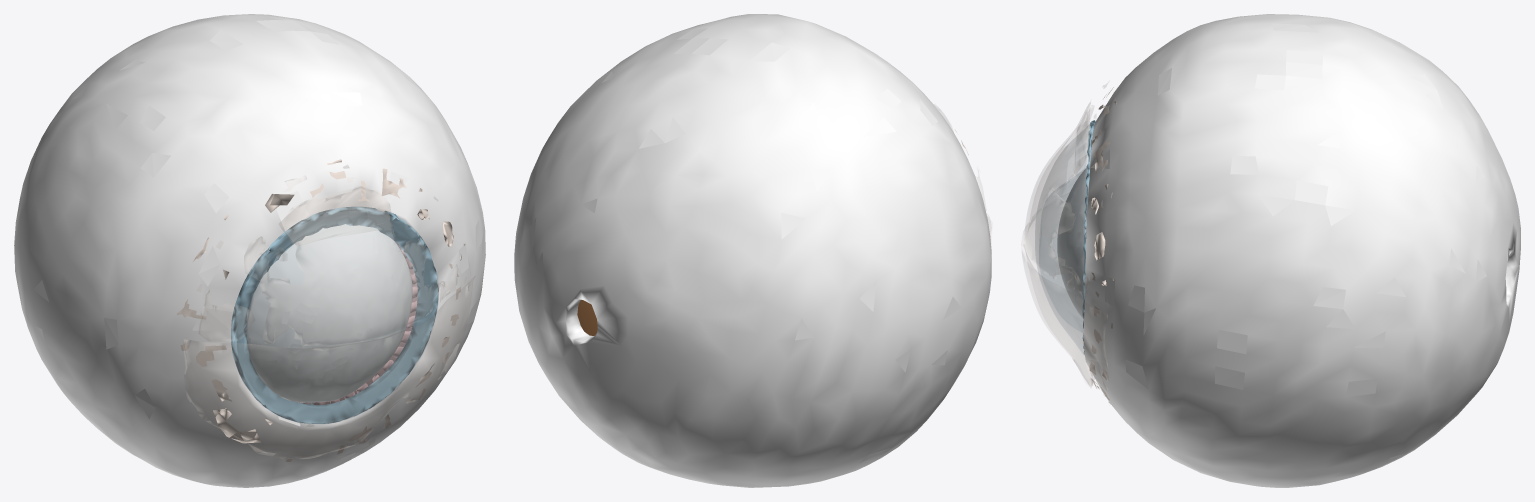
The model's file is 3d-vh-m-eye-r-40.glb.
3 renders of one model, left to right at view 1: azimuth 30°, elevation 25°; view 2: azimuth 150°, elevation 25°; view 3: azimuth 270°, elevation 25°, orthographic.
Visible parts, largest first — view 1: VH_M_sclera_R, VH_M_cornea_R, VH_M_palpebral_conjunctiva_of_lower_eyelid_R, VH_M_aqueous_humor_R, VH_M_palpebral_conjunctiva_of_upper_eyelid_R, VH_M_corneo_scleral_junction_R, VH_M_bulbar_conjunctiva_R, VH_M_ciliary_muscle_R; view 2: VH_M_sclera_R, VH_M_optic_choroid_R; view 3: VH_M_sclera_R, VH_M_cornea_R, VH_M_palpebral_conjunctiva_of_upper_eyelid_R, VH_M_palpebral_conjunctiva_of_lower_eyelid_R, VH_M_aqueous_humor_R, VH_M_bulbar_conjunctiva_R, VH_M_corneo_scleral_junction_R.
Boxes of the visible parts, x1,y1,x2,y2 form: VH_M_sclera_R: [14, 14, 485, 487]; VH_M_cornea_R: [233, 209, 438, 423]; VH_M_palpebral_conjunctiva_of_lower_eyelid_R: [183, 276, 474, 458]; VH_M_aqueous_humor_R: [246, 224, 412, 402]; VH_M_palpebral_conjunctiva_of_upper_eyelid_R: [197, 165, 470, 345]; VH_M_corneo_scleral_junction_R: [231, 206, 438, 423]; VH_M_bulbar_conjunctiva_R: [177, 159, 469, 461]; VH_M_ciliary_muscle_R: [295, 242, 417, 404]; VH_M_sclera_R: [514, 14, 991, 487]; VH_M_optic_choroid_R: [577, 299, 597, 335]; VH_M_sclera_R: [1083, 14, 1520, 487]; VH_M_cornea_R: [1035, 122, 1092, 355]; VH_M_palpebral_conjunctiva_of_upper_eyelid_R: [1025, 82, 1108, 311]; VH_M_palpebral_conjunctiva_of_lower_eyelid_R: [1021, 221, 1108, 390]; VH_M_aqueous_humor_R: [1057, 168, 1087, 317]; VH_M_bulbar_conjunctiva_R: [1089, 87, 1116, 404]; VH_M_corneo_scleral_junction_R: [1082, 120, 1095, 354].
Bounding box in the file's own units: 0.0245 × 0.0244 × 0.0257.
